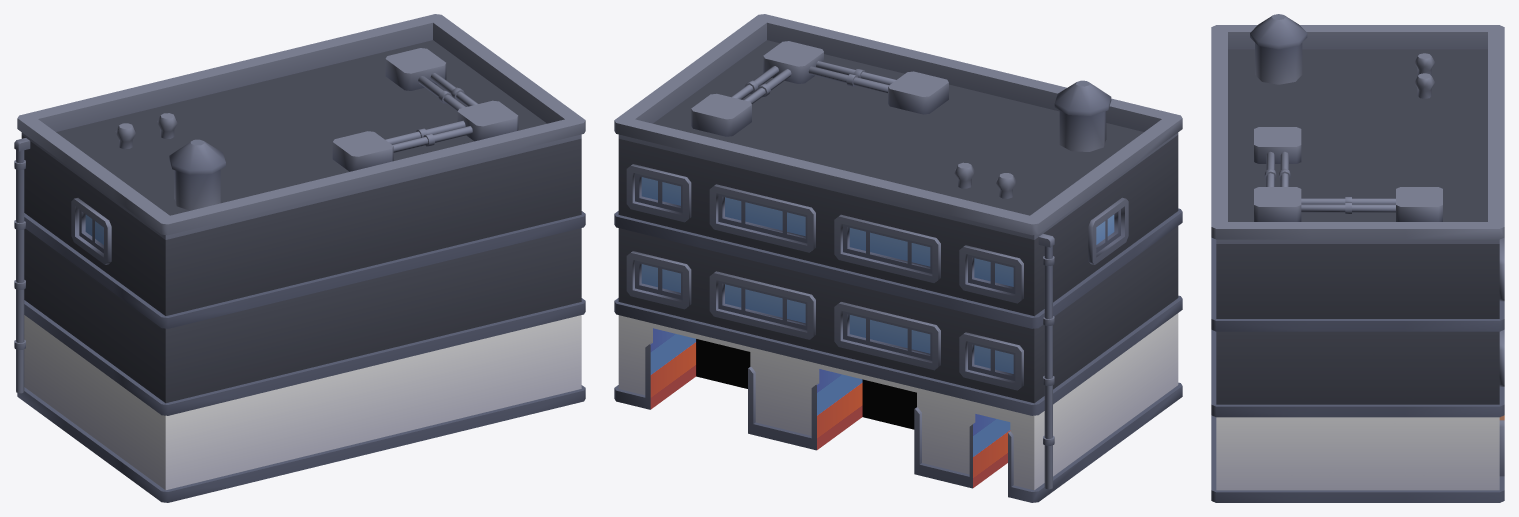
The model's file is building-a-enterable.glb.
3 views of the same model, side by side, from view 1: azimuth 30°, elevation 25°; view 2: azimuth 150°, elevation 25°; view 3: azimuth 270°, elevation 25° (orthographic).
Visible parts, largest first — view 1: building-a-enterable; view 2: building-a-enterable; view 3: building-a-enterable.
Boxes of the visible parts, left/top/right/bottom form: building-a-enterable: left=14, top=14, right=585, bottom=502; building-a-enterable: left=614, top=14, right=1182, bottom=502; building-a-enterable: left=1211, top=14, right=1504, bottom=502.
Size of the model in its own units: 2.08 by 1.47 by 1.24.
Materials: 1 (1 with a texture image).
